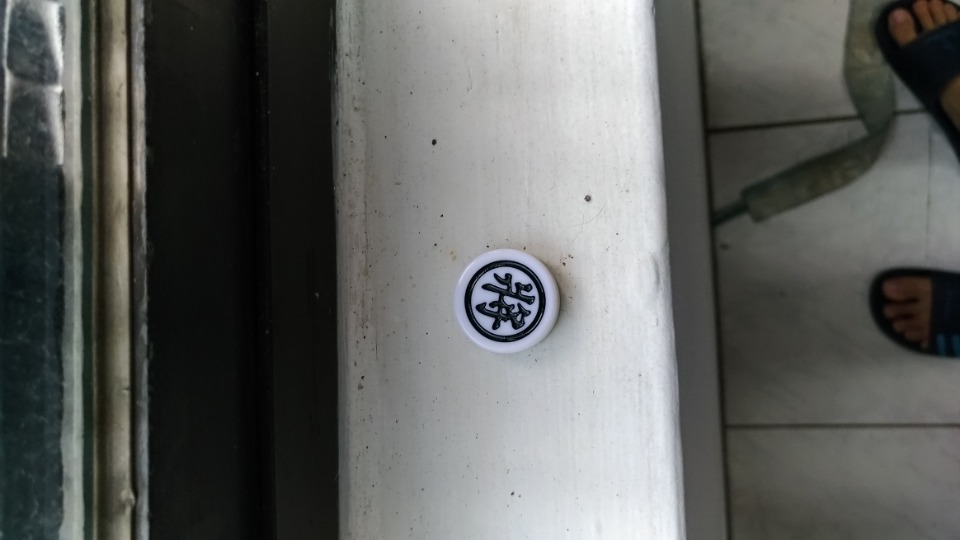b-king: (429, 230, 591, 364)
